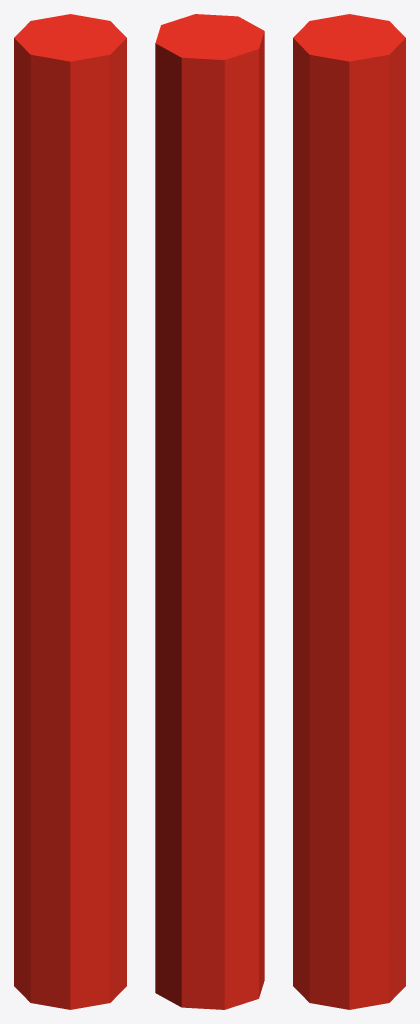
Rendered from battle_banner_aegean_owl_collision.glb.
The picture shows the model from 3 angles, left to right: view 1: azimuth 90°, elevation 25°; view 2: azimuth 150°, elevation 25°; view 3: azimuth 270°, elevation 25°; orthographic projection.
Parts seen in each view (by area): view 1: battle_banner_aegean_owl-col; view 2: battle_banner_aegean_owl-col; view 3: battle_banner_aegean_owl-col.
Part boxes in pixels (bbox=[...]): battle_banner_aegean_owl-col: bbox=[14, 14, 126, 1009]; battle_banner_aegean_owl-col: bbox=[155, 14, 264, 1009]; battle_banner_aegean_owl-col: bbox=[293, 14, 405, 1009].
Size of the model in its own units: 0.48 by 4.45 by 0.48.
